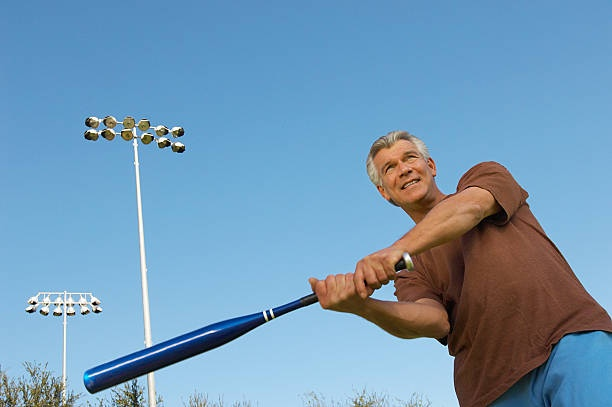bita: (87, 256, 408, 391)
